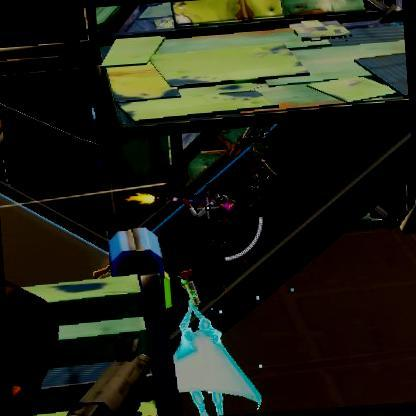person: (204, 209, 240, 293), (247, 130, 280, 193)
